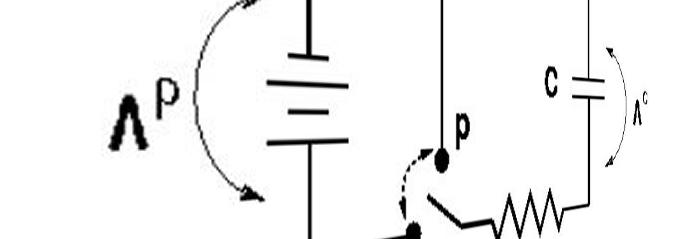resistor: (479, 174, 578, 237)
